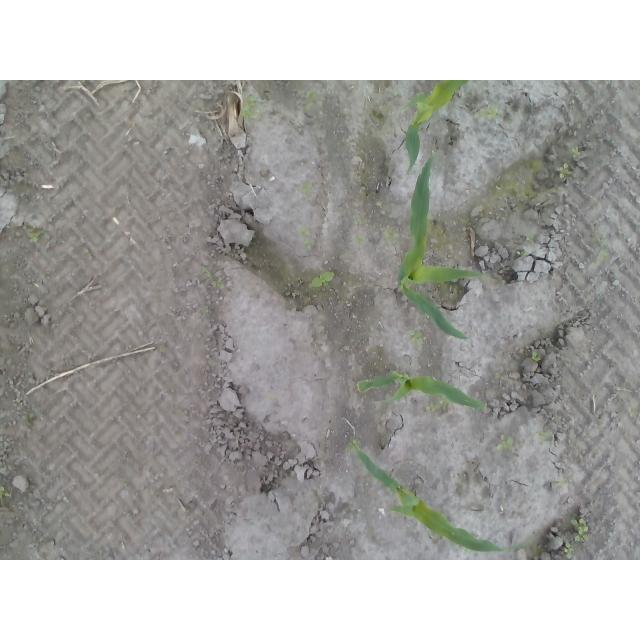Maize: (352, 446, 525, 555), (393, 154, 482, 338), (404, 80, 469, 172), (356, 368, 488, 411)
Weeds: (200, 265, 225, 290), (308, 270, 335, 291), (571, 519, 590, 542), (303, 89, 320, 113), (244, 94, 259, 121), (297, 227, 313, 249), (383, 228, 404, 244), (476, 105, 497, 119), (26, 224, 41, 243), (425, 400, 448, 412), (408, 329, 425, 344), (559, 162, 574, 179), (563, 543, 575, 560), (495, 439, 513, 450), (570, 145, 582, 159), (354, 235, 366, 246), (0, 487, 10, 498), (533, 351, 542, 362), (352, 440, 360, 449), (520, 250, 528, 256)
